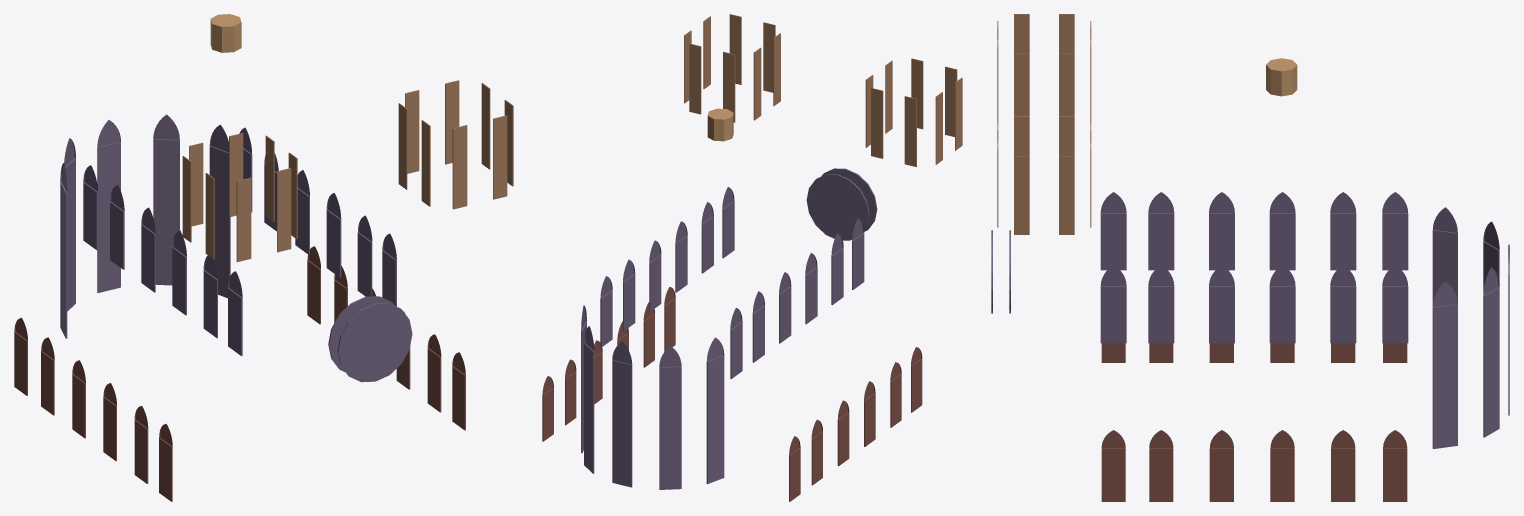
File: cathedral-glass.glb
3 renders of one model, left to right at view 1: azimuth 30°, elevation 25°; view 2: azimuth 150°, elevation 25°; view 3: azimuth 270°, elevation 25°, orthographic. The views are drawn at different scales.
Visible parts, largest first — view 1: cathedral-glass; view 2: cathedral-glass; view 3: cathedral-glass.
Boxes of the visible parts, bbox=[...] form: cathedral-glass: bbox=[14, 14, 513, 501]; cathedral-glass: bbox=[542, 14, 962, 501]; cathedral-glass: bbox=[991, 14, 1509, 501].
Size of the model in its own units: 19.44 by 23.4 by 29.94.
